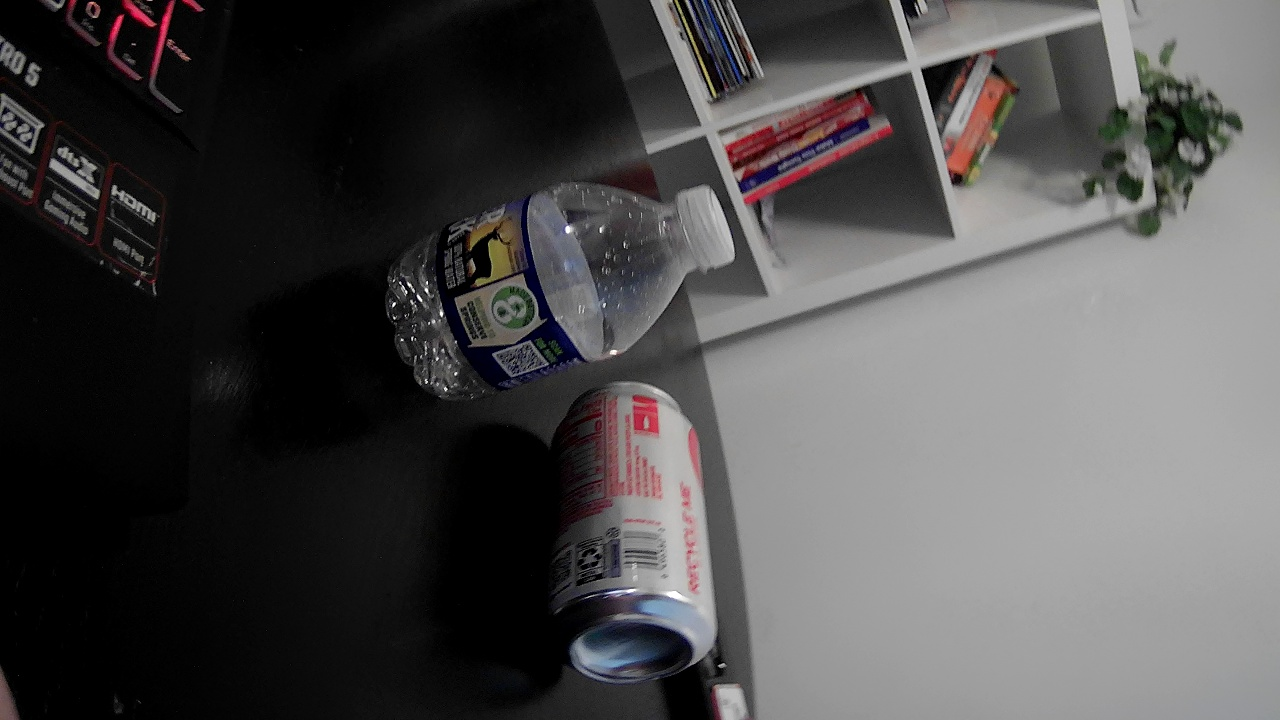recycling: (366, 144, 761, 410), (555, 354, 724, 689)
